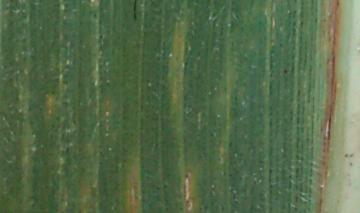tarspot: (283, 69, 288, 75), (350, 153, 354, 157), (349, 162, 353, 166), (344, 154, 348, 157)
